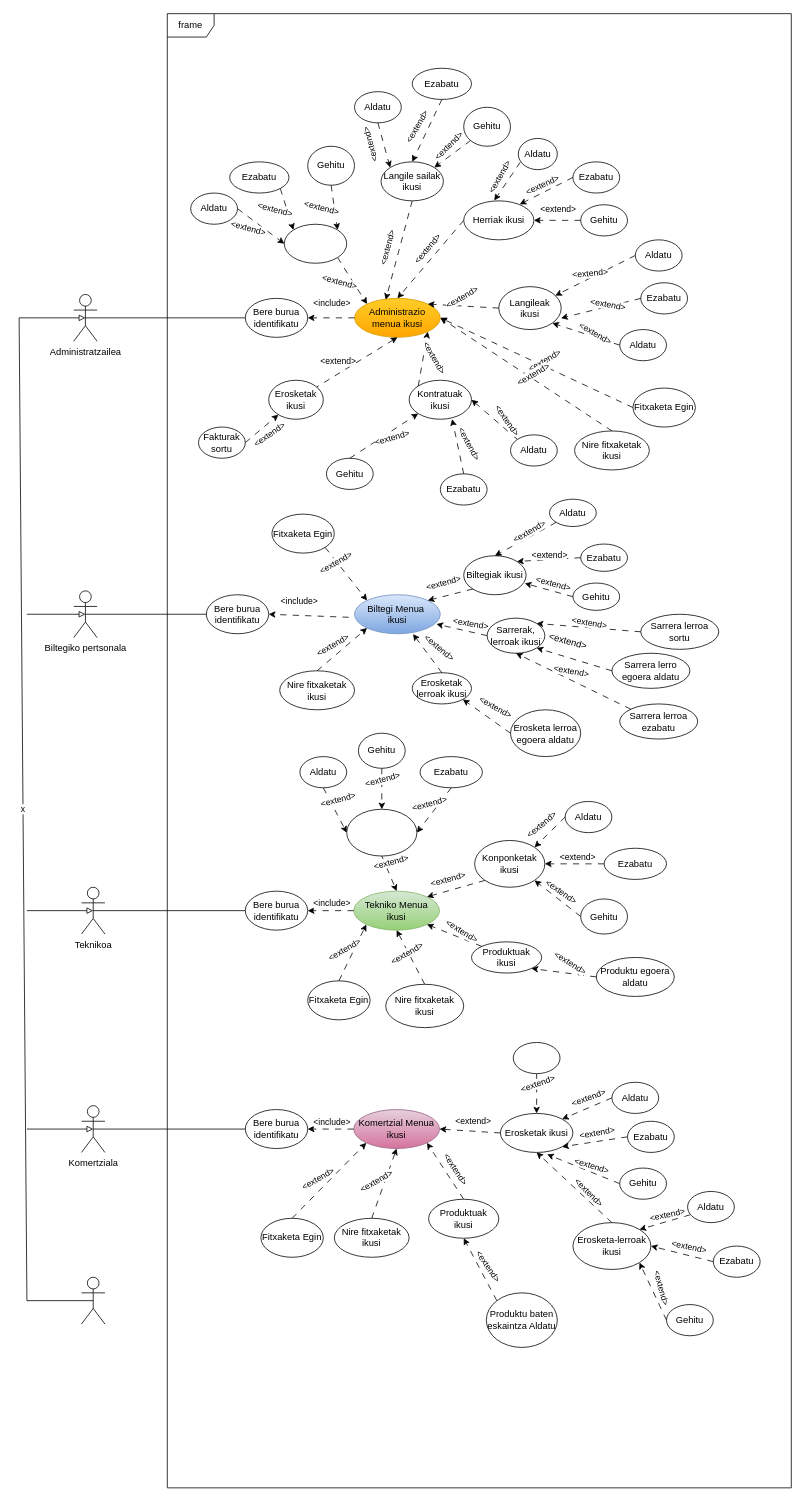
This 805x1502 diagram has some shape labels left out. The shapes that lost their labels are listed below. From the top down, each one's box as (x1, y1, x2, y2) in pixels, then its label:
(284, 223, 347, 263): Fitxaketak ikusi
(346, 808, 417, 856): Akatsak ikusi
(512, 1042, 560, 1074): Faktura sortu
(81, 1276, 105, 1324): Zuzendaria
